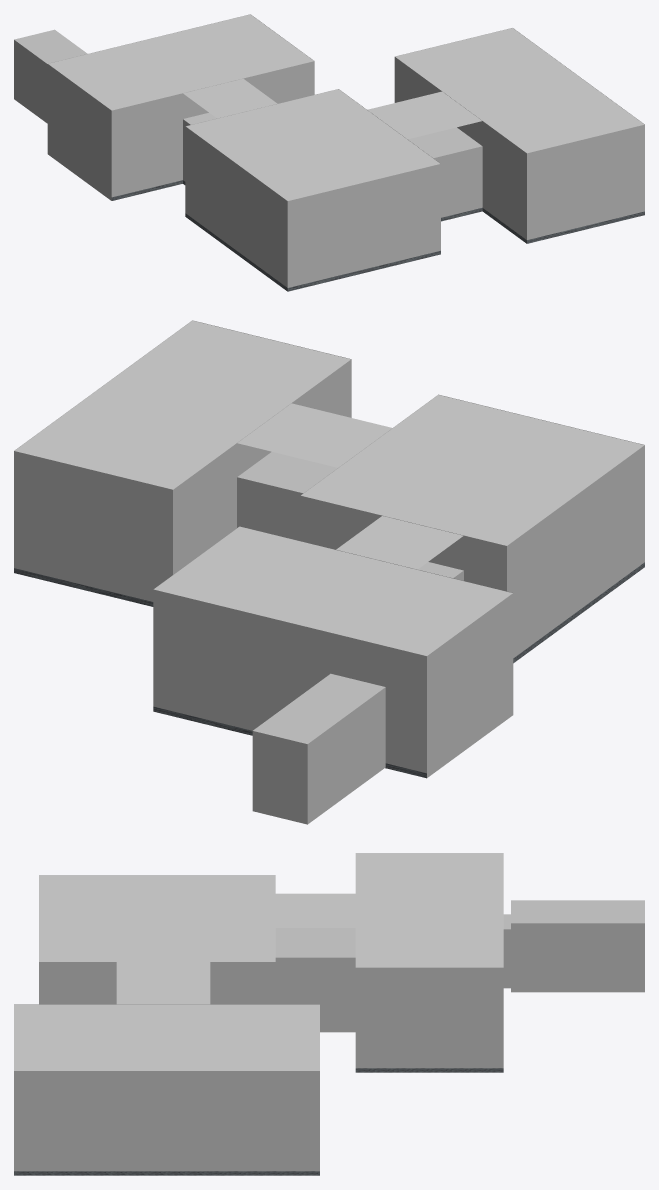
File: menu.fbx
3 renders of one model, top to bottom at view 1: azimuth 30°, elevation 25°; view 2: azimuth 150°, elevation 25°; view 3: azimuth 270°, elevation 25°, orthographic. The views are drawn at different scales.
Parts seen in each view (by area): view 1: Room, Ceiling, Floor; view 2: Room, Ceiling, Floor; view 3: Room, Ceiling, Floor.
Boxes of the visible parts, <box> form: Room: <box>14,14,644,287</box>; Ceiling: <box>48,14,644,200</box>; Floor: <box>111,180,644,291</box>; Room: <box>14,320,644,824</box>; Ceiling: <box>15,320,644,655</box>; Floor: <box>14,562,644,778</box>; Room: <box>14,853,644,1171</box>; Ceiling: <box>14,853,503,1070</box>; Floor: <box>14,1068,503,1175</box>.
Size of the model in its own units: 11.02 by 2.47 by 13.51.
